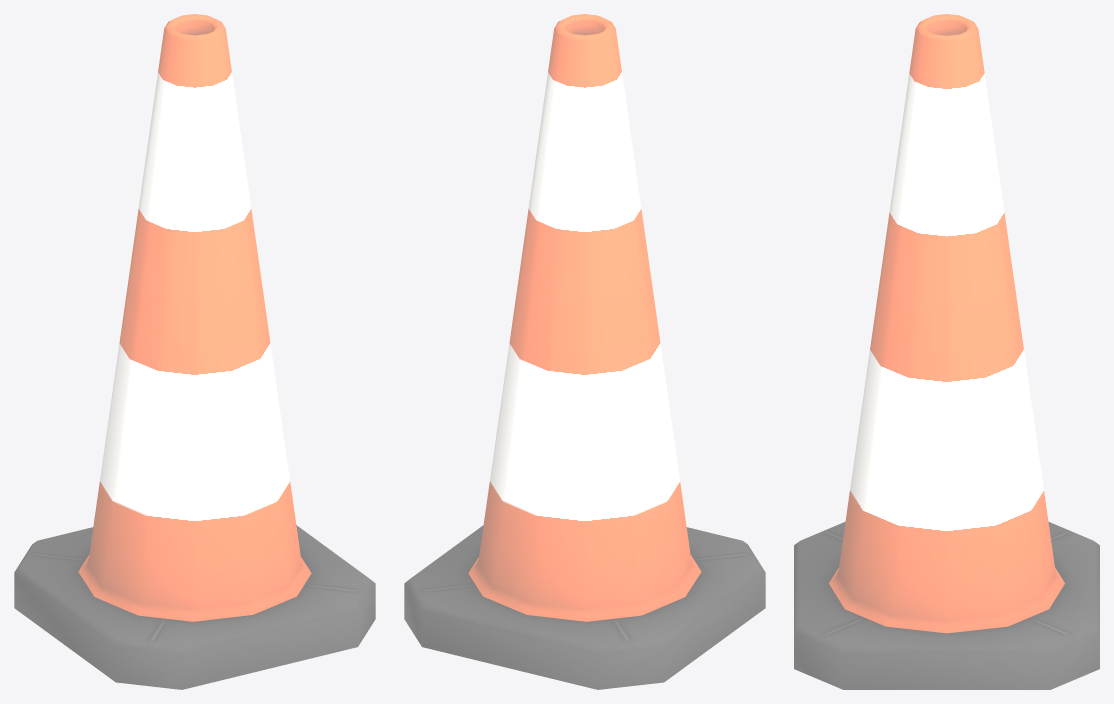
File: gazebo_construction_cone.glb
3 views of the same model, side by side, from view 1: azimuth 30°, elevation 25°; view 2: azimuth 150°, elevation 25°; view 3: azimuth 270°, elevation 25° (orthographic).
Parts seen in each view (by area): view 1: geom-Box001; view 2: geom-Box001; view 3: geom-Box001.
Part boxes in pixels (box(x1,y1,x2,y2)): geom-Box001: box(14, 14, 375, 689); geom-Box001: box(404, 14, 765, 689); geom-Box001: box(794, 14, 1099, 689).
Size of the model in its own units: 0.5029 by 1.09 by 0.5029.
Materials: 1 (1 with a texture image).
